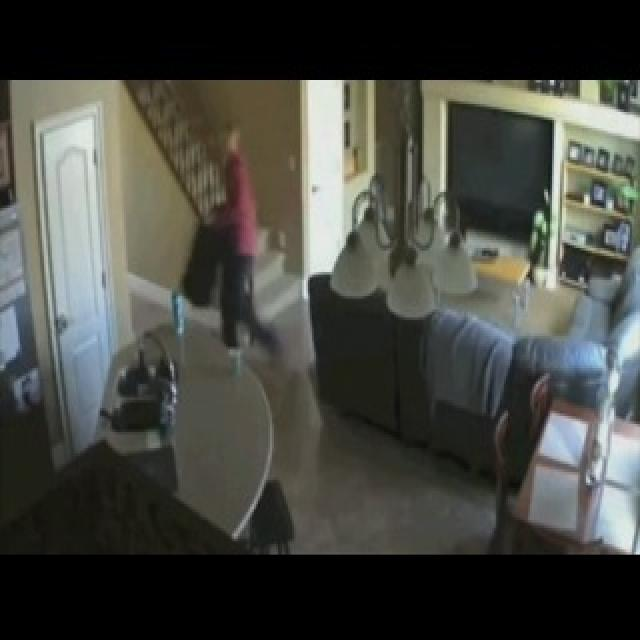thief: (204, 120, 258, 278)
